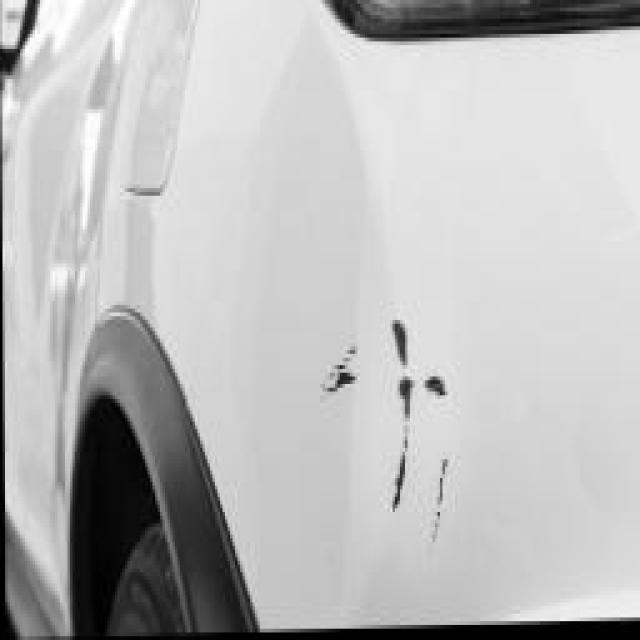Bumper: (222, 200, 548, 577)
